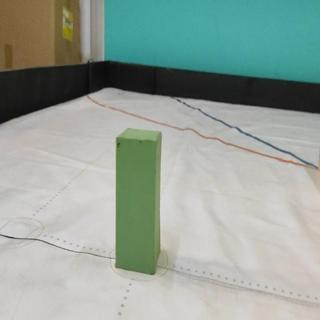greenbox: (115, 127, 161, 275)
